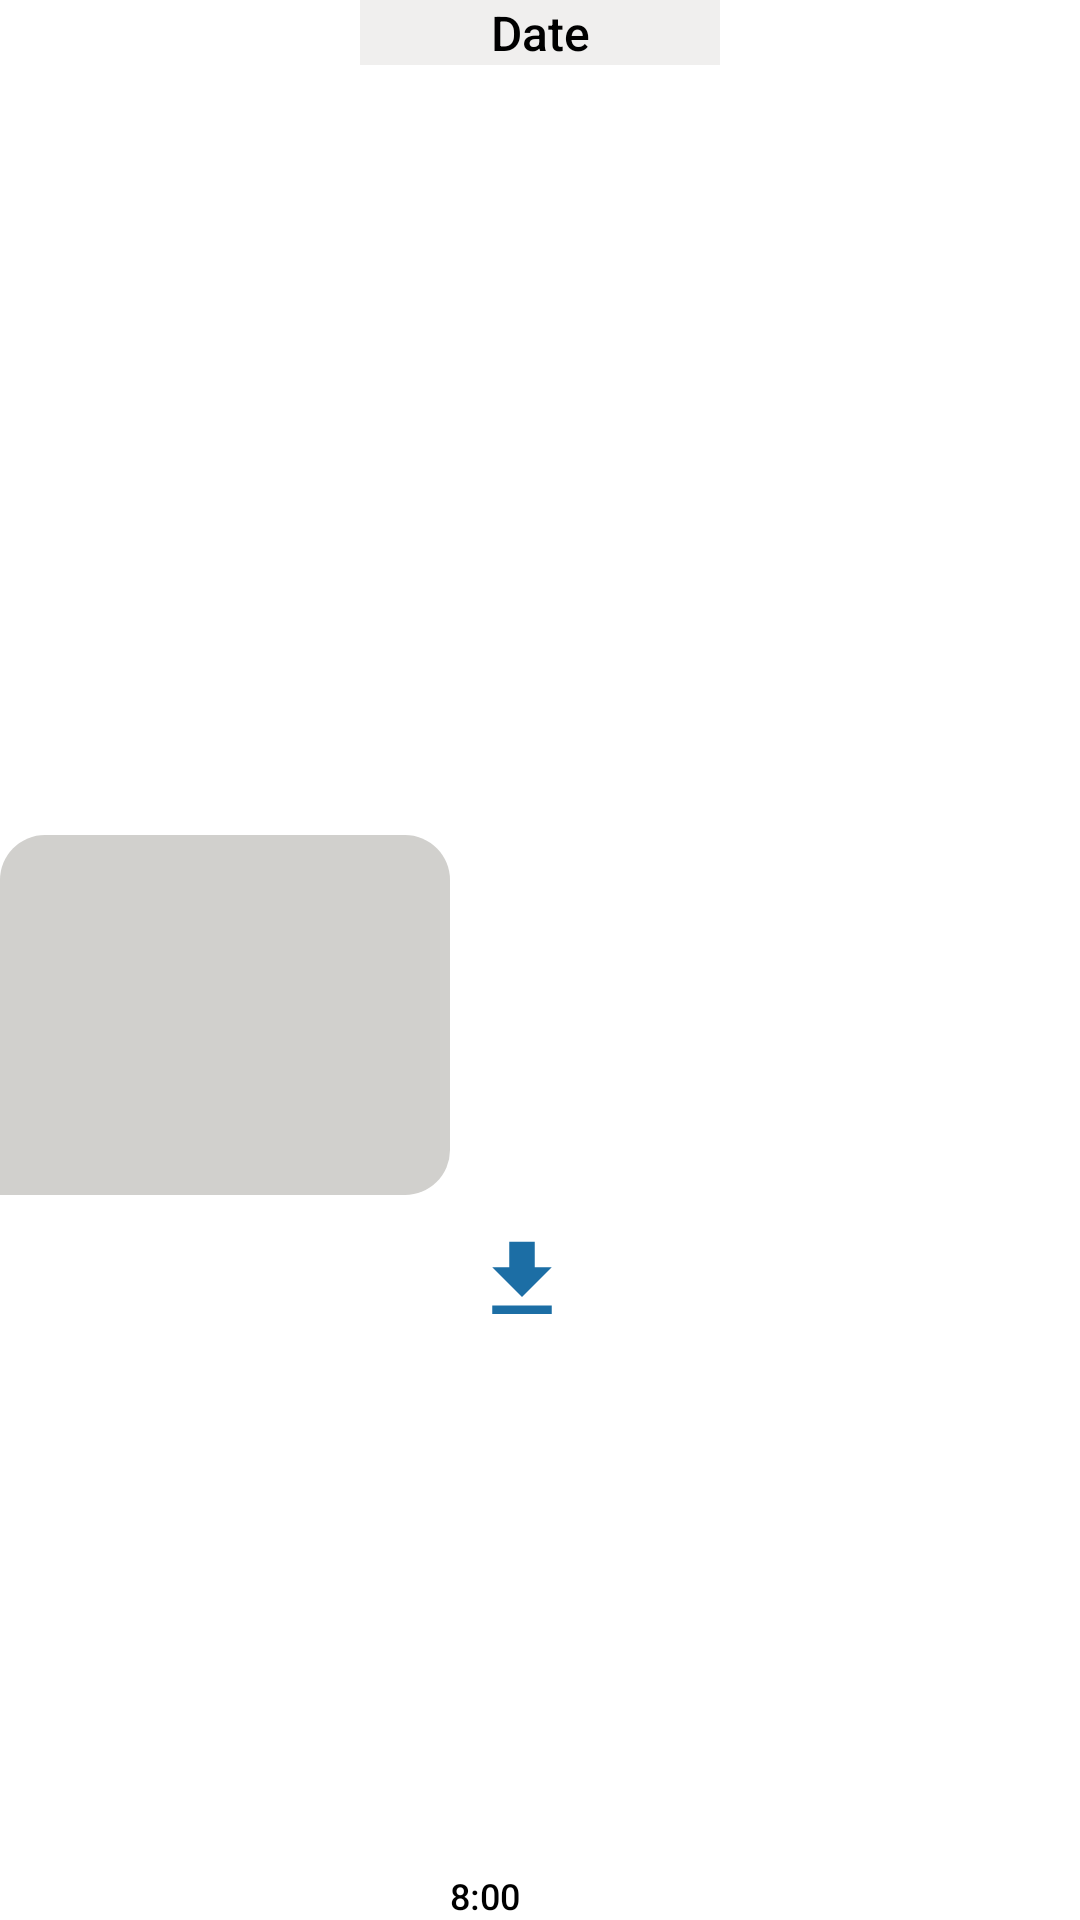

Screen size 1080×1920. Icon name, then its center in pixels as (x=x, y=y):
download: (x=522, y=1277)
